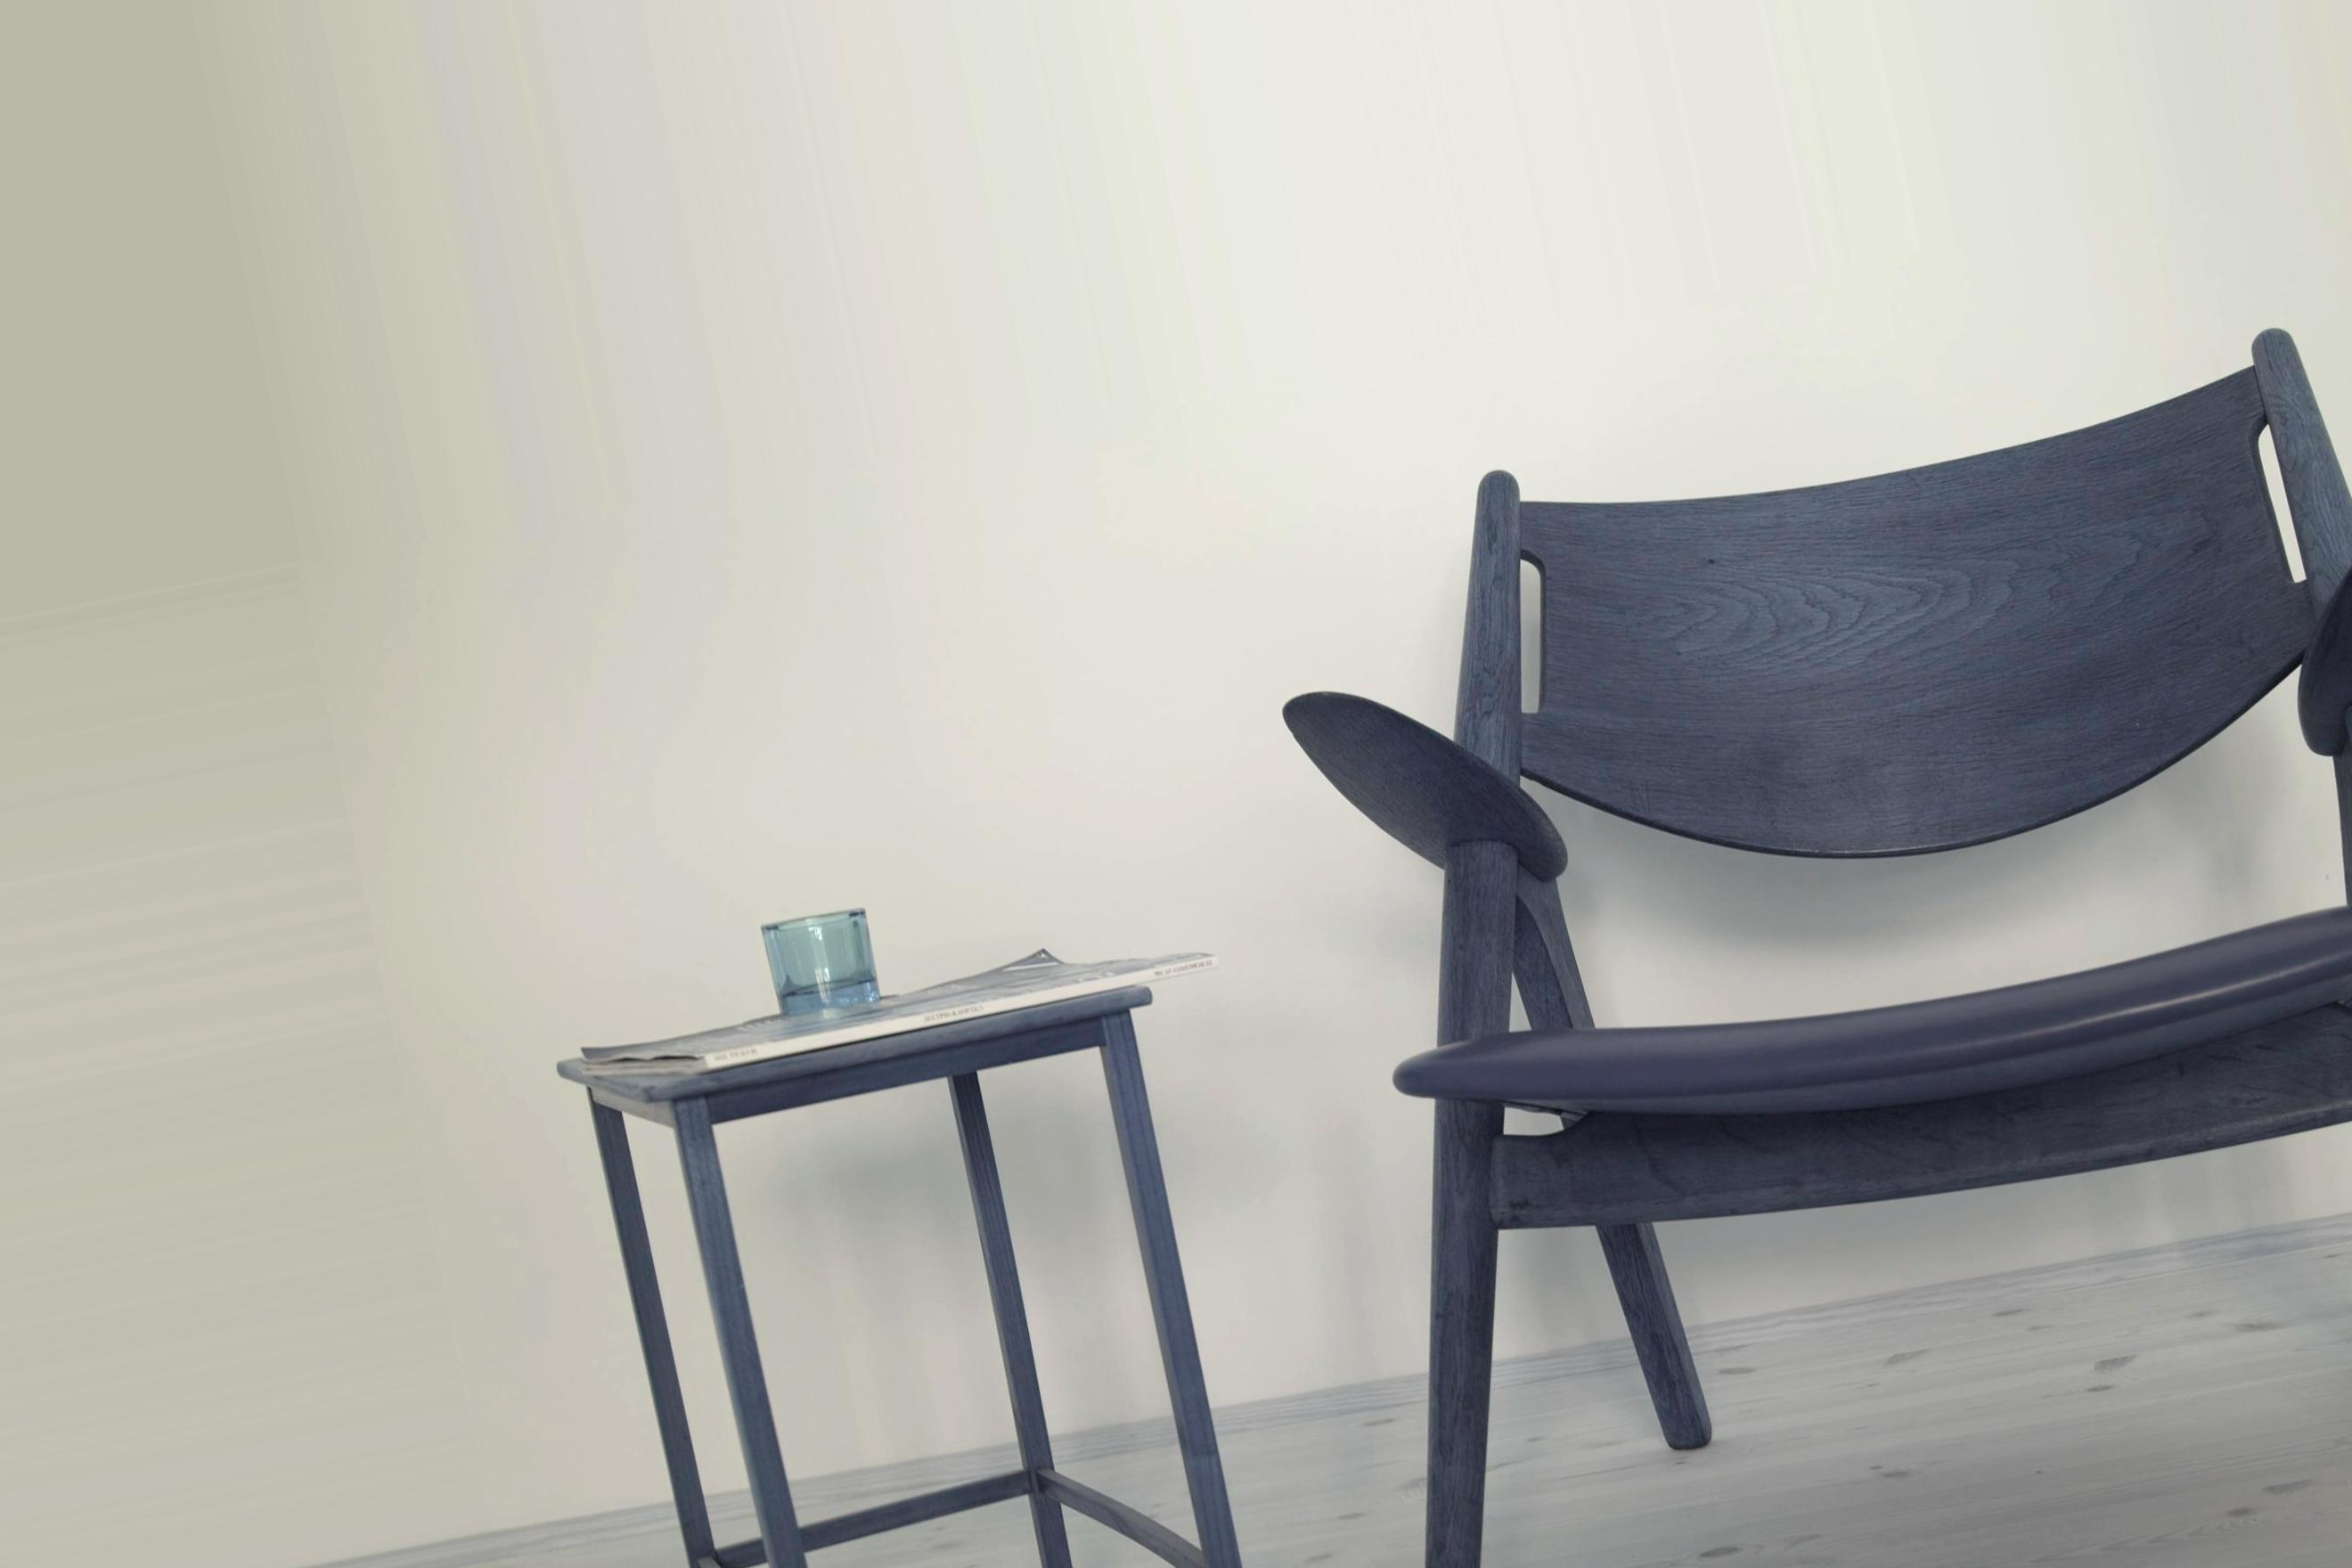chair: (1284, 327, 2352, 1563)
